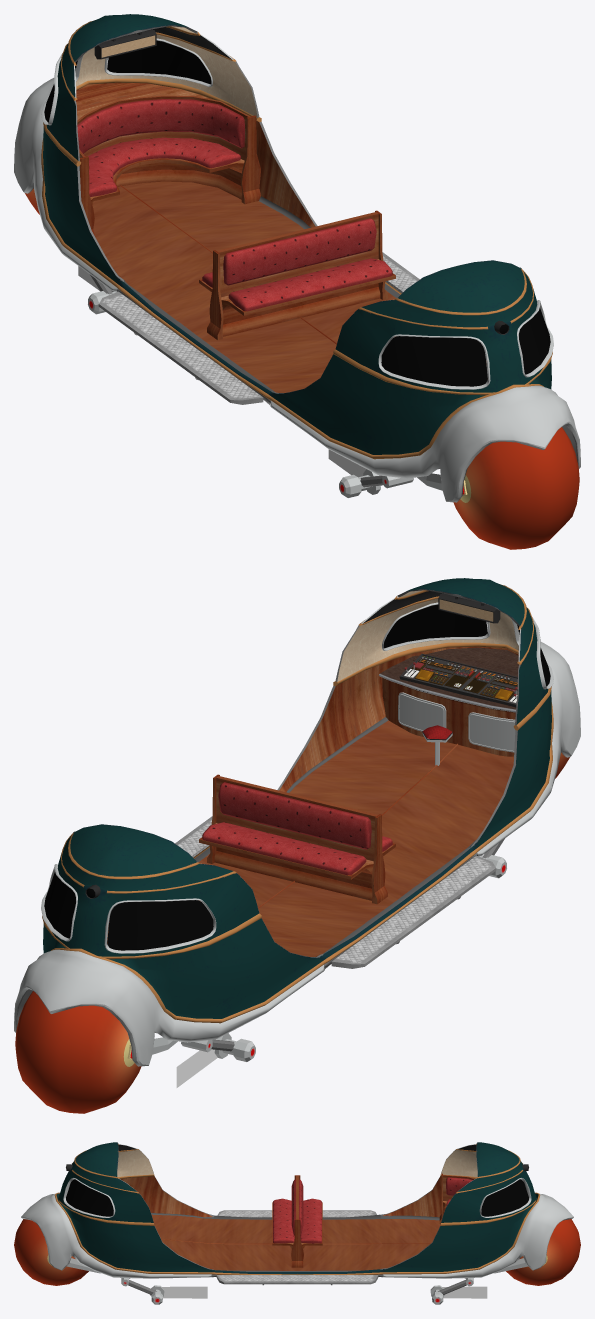
The model's file is Train_01_Art.fbx.
The picture shows the model from 3 angles, top to bottom: view 1: azimuth 30°, elevation 25°; view 2: azimuth 150°, elevation 25°; view 3: azimuth 270°, elevation 25°; orthographic projection. The views are drawn at different scales.
Parts seen in each view (by area): view 1: Train_01_Art; view 2: Train_01_Art; view 3: Train_01_Art.
Part boxes in pixels (x1,y1,x2,y2): Train_01_Art: [14, 14, 580, 549]; Train_01_Art: [14, 578, 580, 1113]; Train_01_Art: [14, 1142, 580, 1304].
Bounding box in the file's own units: 502 × 435 × 1659.
